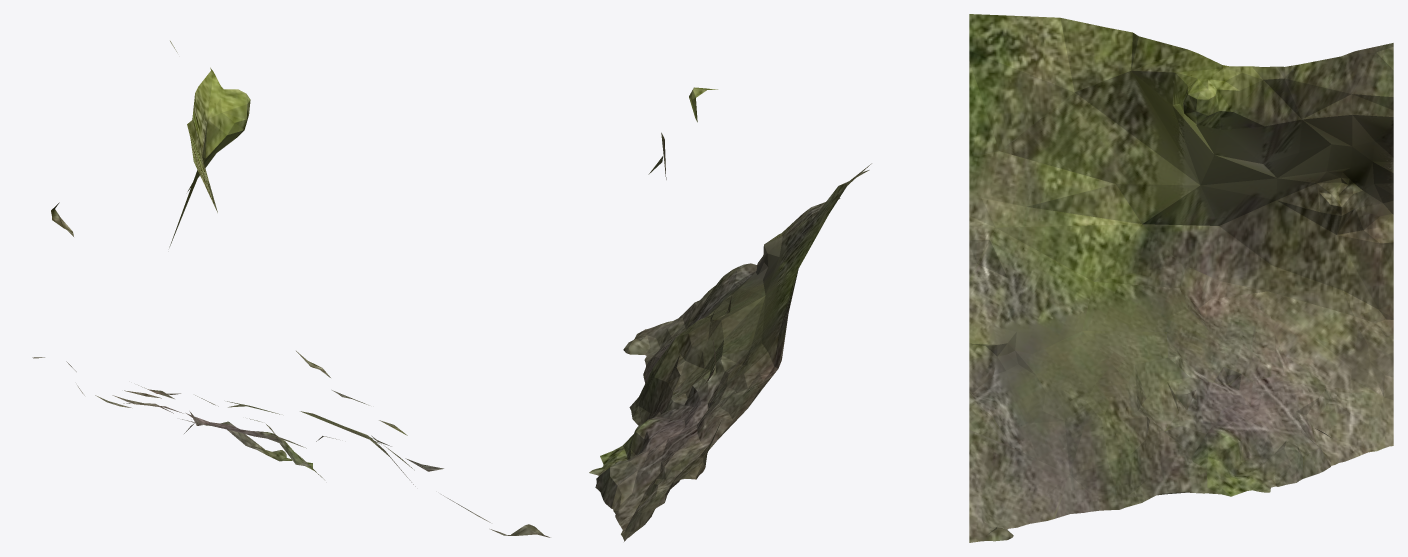
3 views of the same model, side by side, from view 1: azimuth 30°, elevation 25°; view 2: azimuth 150°, elevation 25°; view 3: azimuth 270°, elevation 25° (orthographic). The views are drawn at different scales.
Size of the model in its own units: 4.76 by 5.9 by 5.9.
3 materials, 3 textured.
